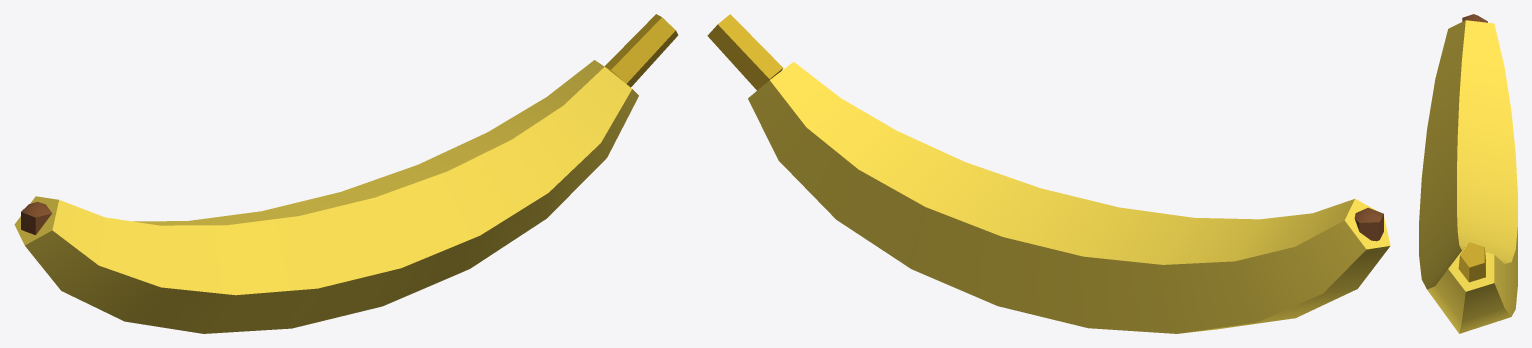
The model's file is Banana.fbx.
The picture shows the model from 3 angles, left to right: view 1: azimuth 30°, elevation 25°; view 2: azimuth 150°, elevation 25°; view 3: azimuth 270°, elevation 25°; orthographic projection. The views are drawn at different scales.
Visible parts, largest first — view 1: Banana; view 2: Banana; view 3: Banana.
Part boxes in pixels (x1,y1,x2,y2): Banana: (14, 14, 678, 333); Banana: (707, 14, 1390, 333); Banana: (1419, 14, 1517, 333).
Bounding box in the file's own units: 2.34 × 0.7282 × 0.3597.
1 material, 1 textured.
